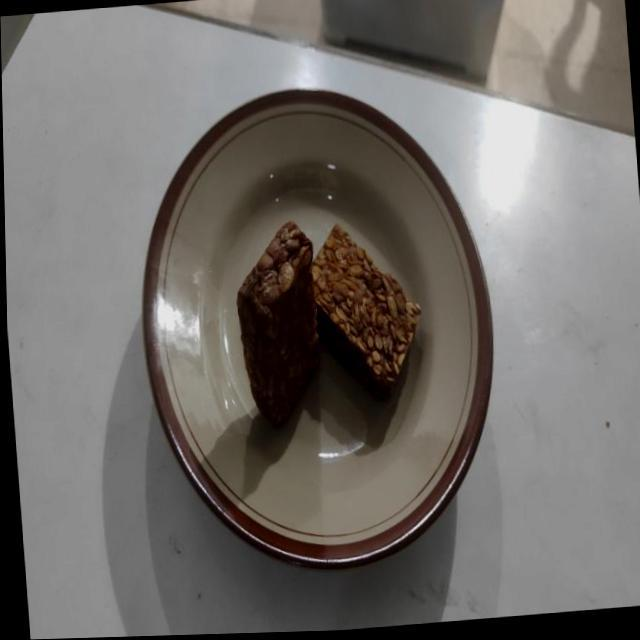tempe_goreng: (312, 224, 421, 396), (236, 222, 318, 424)
